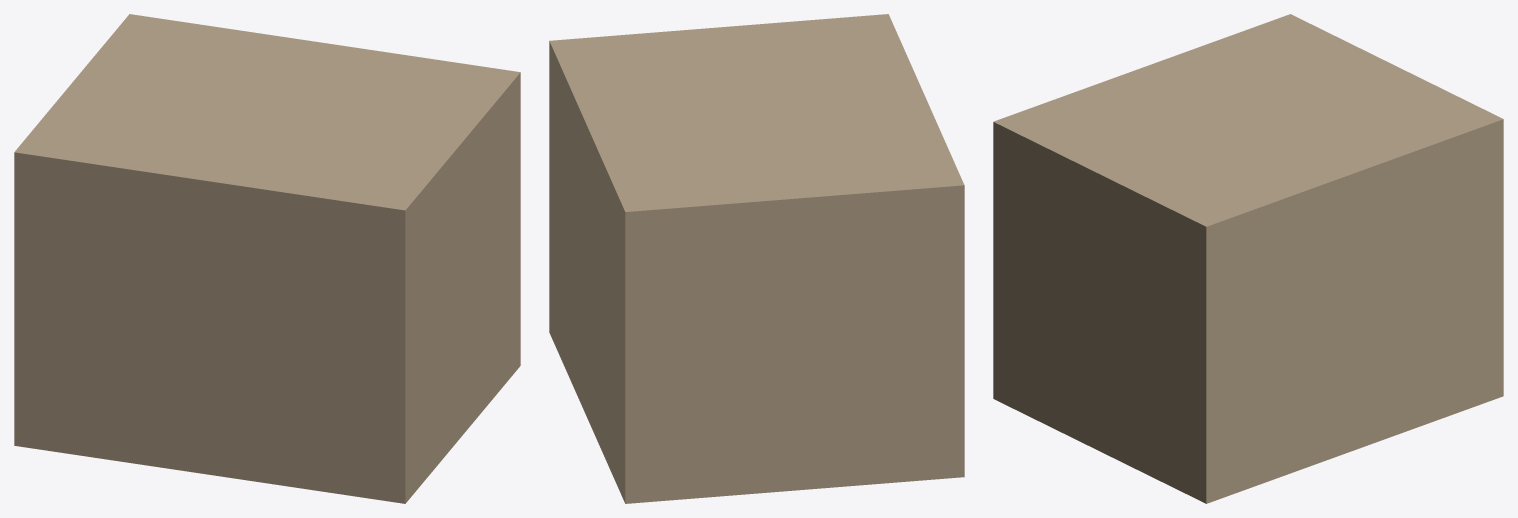
Rendered from bld_55879414.dae.
The picture shows the model from 3 angles, left to right: view 1: azimuth 30°, elevation 25°; view 2: azimuth 150°, elevation 25°; view 3: azimuth 270°, elevation 25°; orthographic projection. The views are drawn at different scales.
Parts seen in each view (by area): view 1: bld_55879414; view 2: bld_55879414; view 3: bld_55879414.
Boxes of the visible parts, x1,y1,x2,y2 form: bld_55879414: [14, 14, 520, 503]; bld_55879414: [549, 14, 964, 503]; bld_55879414: [993, 14, 1503, 503].
Bounding box in the file's own units: 13.18 × 13.36 × 8.
